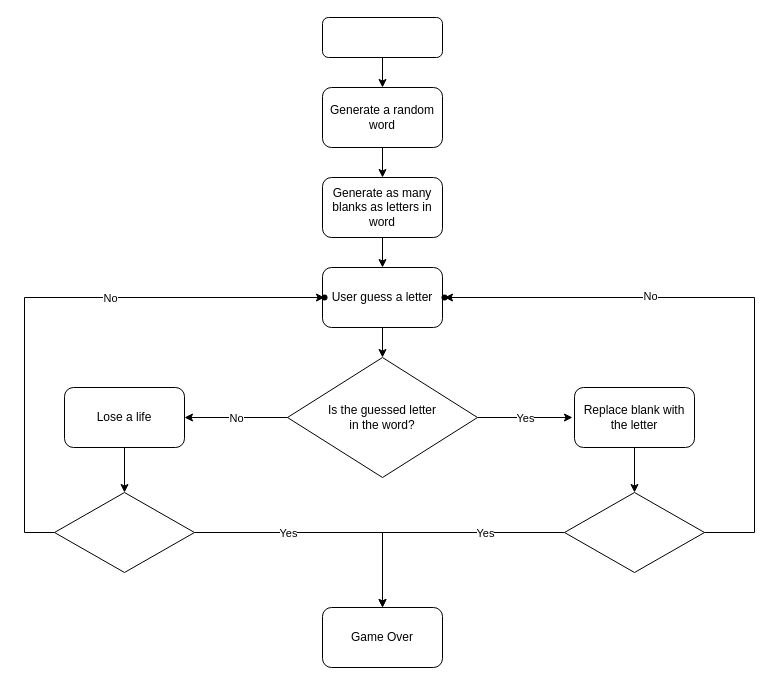
Some shapes in this 780 by 685 pixel diagram are drawn without their labels. The centre of each missing label's shape, as x and y in pixels:
"Are all blanks filled?" belongs at [634,532].
"Run out of lives?" belongs at [124,532].
"Start" belongs at [382,37].
